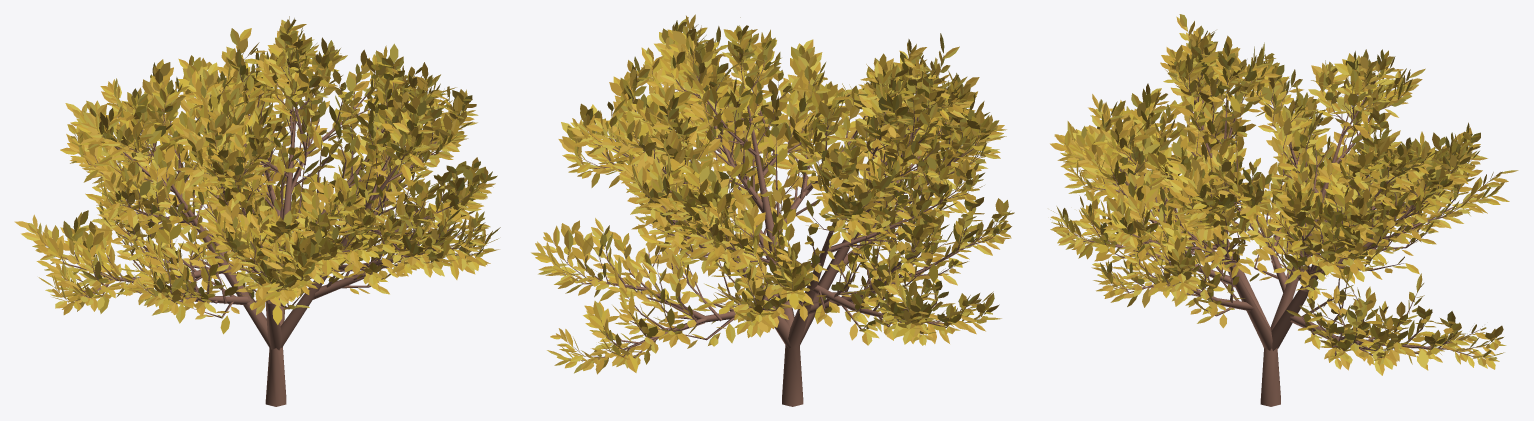
The model's file is cerisier_automne.glb.
3 renders of one model, left to right at view 1: azimuth 30°, elevation 25°; view 2: azimuth 150°, elevation 25°; view 3: azimuth 270°, elevation 25°, orthographic. The views are drawn at different scales.
Visible parts, largest first — view 1: Cerisier_Feuillage, Cerisier_Tronc; view 2: Cerisier_Feuillage, Cerisier_Tronc; view 3: Cerisier_Feuillage, Cerisier_Tronc.
Part boxes in pixels (<box>): Cerisier_Feuillage: <box>14,16,500,334</box>; Cerisier_Tronc: <box>37,27,483,406</box>; Cerisier_Feuillage: <box>531,14,1014,374</box>; Cerisier_Tronc: <box>547,40,1001,406</box>; Cerisier_Feuillage: <box>1050,14,1518,375</box>; Cerisier_Tronc: <box>1059,28,1499,406</box>.
Size of the model in its own units: 5.92 by 4.87 by 6.14.
